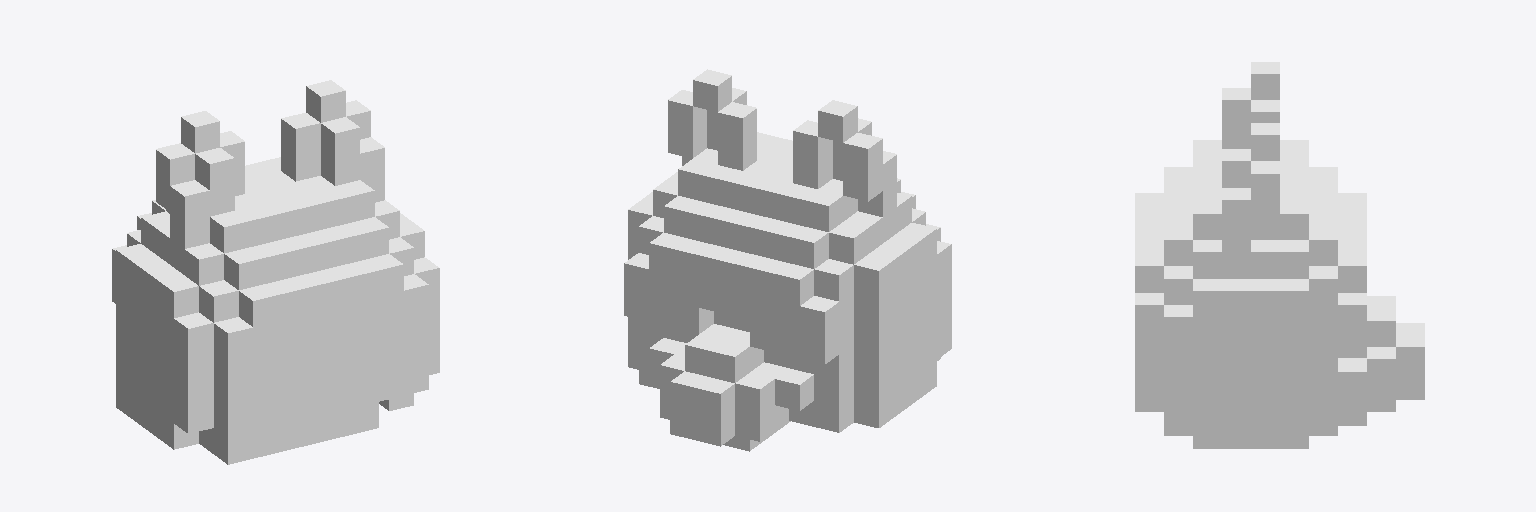
Rendered from TETE.obj.
The picture shows the model from 3 angles: view 1: azimuth 30°, elevation 25°; view 2: azimuth 150°, elevation 25°; view 3: azimuth 270°, elevation 25°; orthographic projection.
Visible parts, largest first — view 1: object 1; view 2: object 1; view 3: object 1.
Part boxes in pixels (left/top/right/bottom): object 1: left=112, top=80, right=439, bottom=464; object 1: left=624, top=69, right=951, bottom=451; object 1: left=1135, top=62, right=1424, bottom=448.
Size of the model in its own units: 1 by 1.2 by 1.